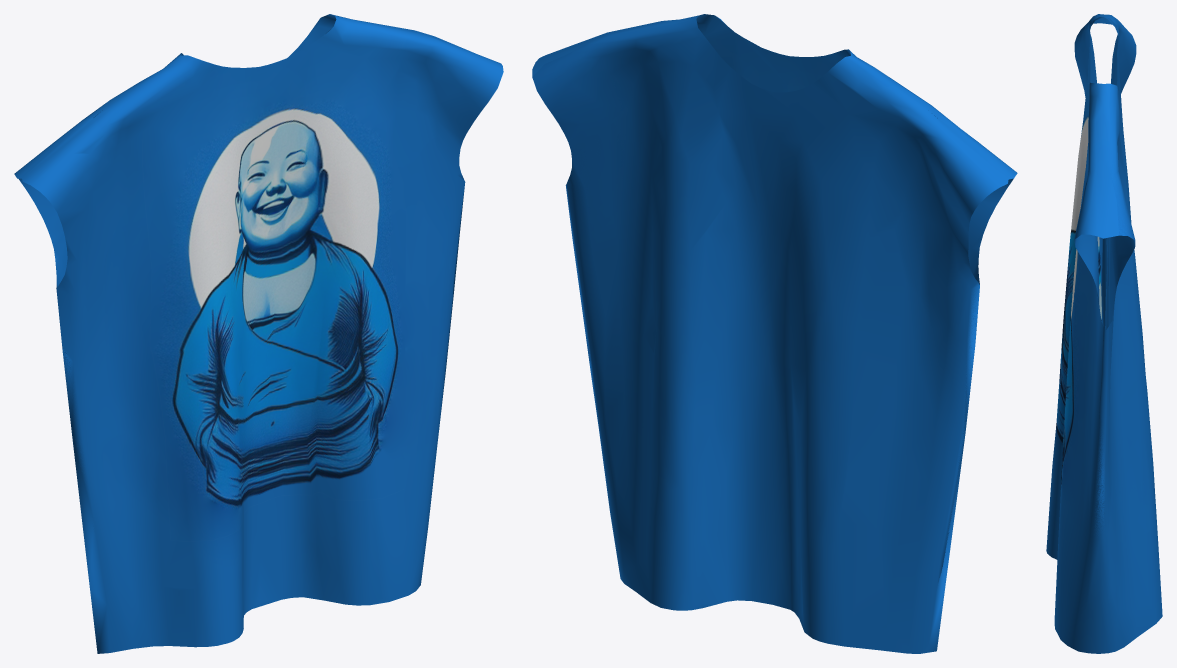
File: Shirt hanger 2.fbx
The picture shows the model from 3 angles, left to right: view 1: azimuth 30°, elevation 25°; view 2: azimuth 150°, elevation 25°; view 3: azimuth 270°, elevation 25°; orthographic projection. The views are drawn at different scales.
Parts seen in each view (by area): view 1: Shirt hanger 2; view 2: Shirt hanger 2; view 3: Shirt hanger 2.
Part boxes in pixels (box(x1,y1,x2,y2)): Shirt hanger 2: box(14, 14, 503, 653); Shirt hanger 2: box(532, 14, 1017, 653); Shirt hanger 2: box(1046, 14, 1162, 653).
Bounding box in the file's own units: 51.82 × 60.06 × 11.78.
Materials: 1 (1 with a texture image).
